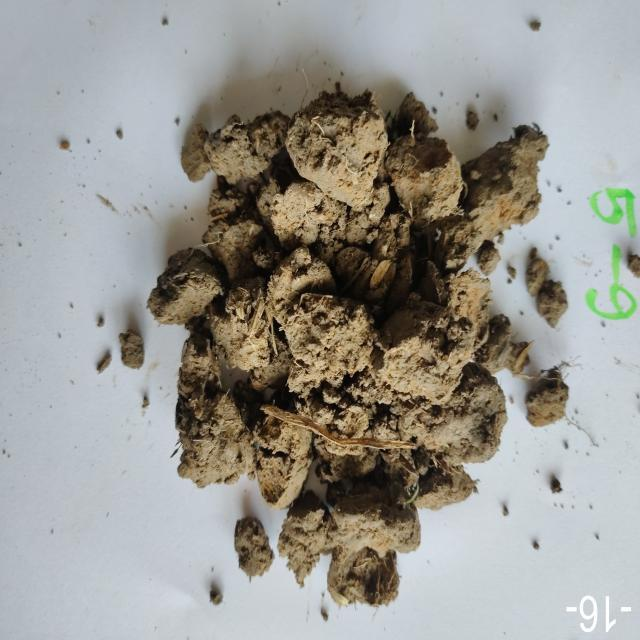soil: (218, 136, 484, 472)
